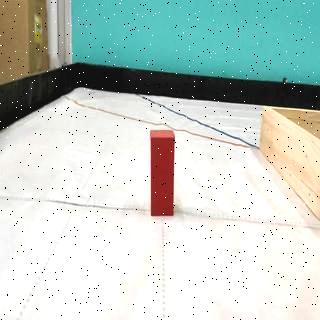redbox: (150, 128, 175, 215)
